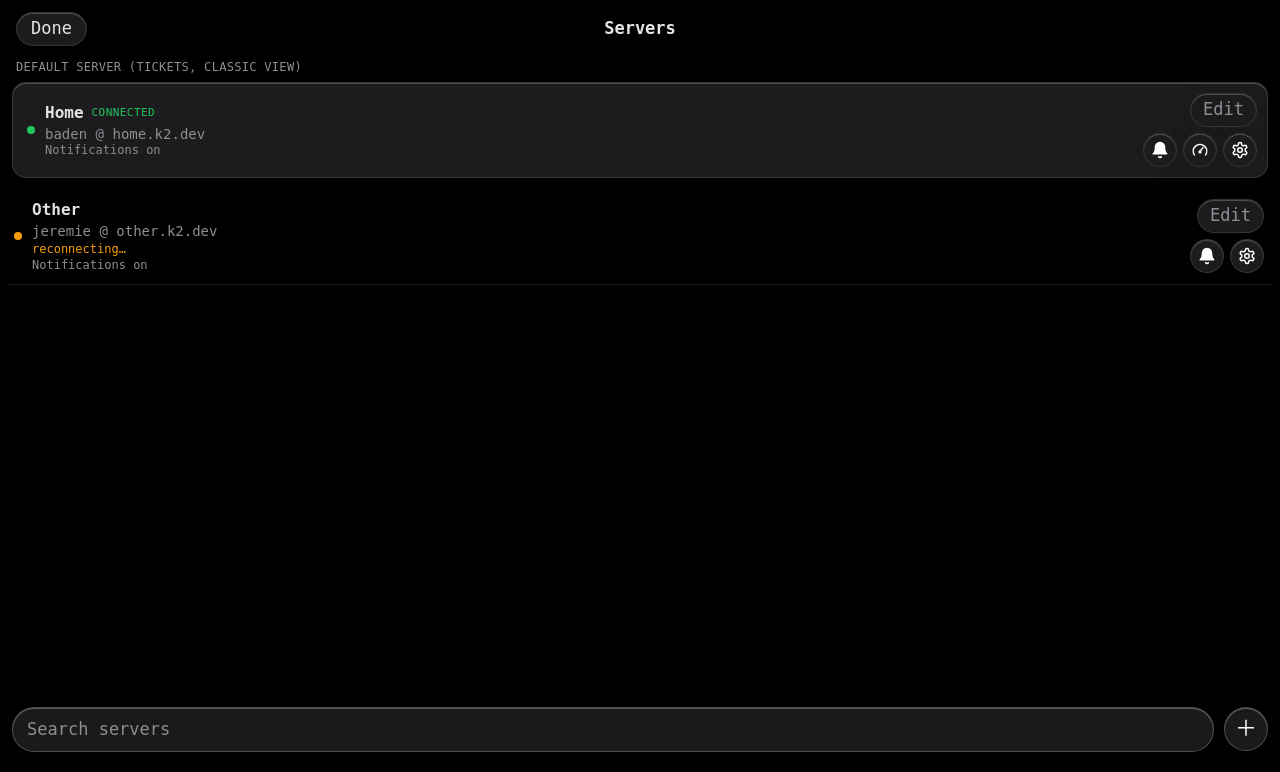
Test case: Servers sheet gear → Server settings › Show message previews › is hidden when the server lacks push-previews-v1
Expected: the 1st button with test id "server-bell" is shown, [1143,133,1177,167]
Click the 1st button with test id "server-settings".
click(1240, 150)  # box [1223,133,1257,167]
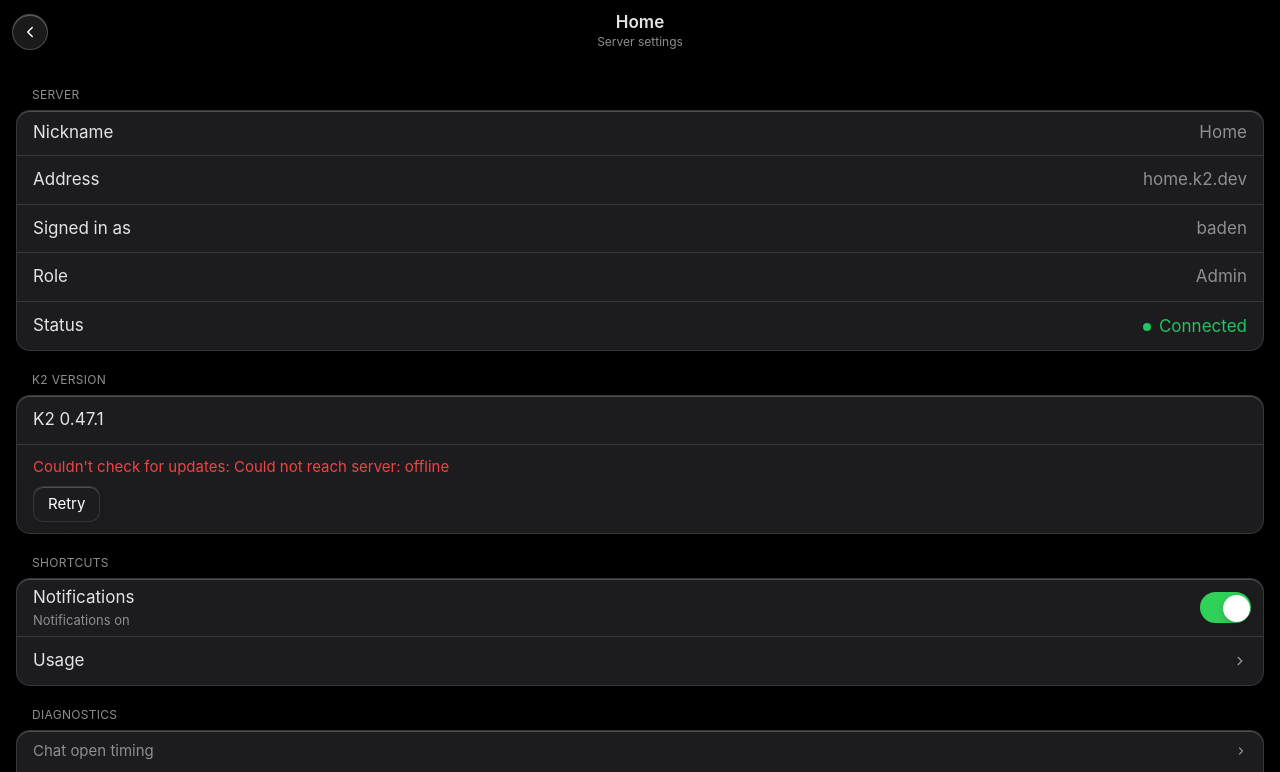
Expected: the element with test id "server-settings-notify" is shown, [17,579,1263,636]
